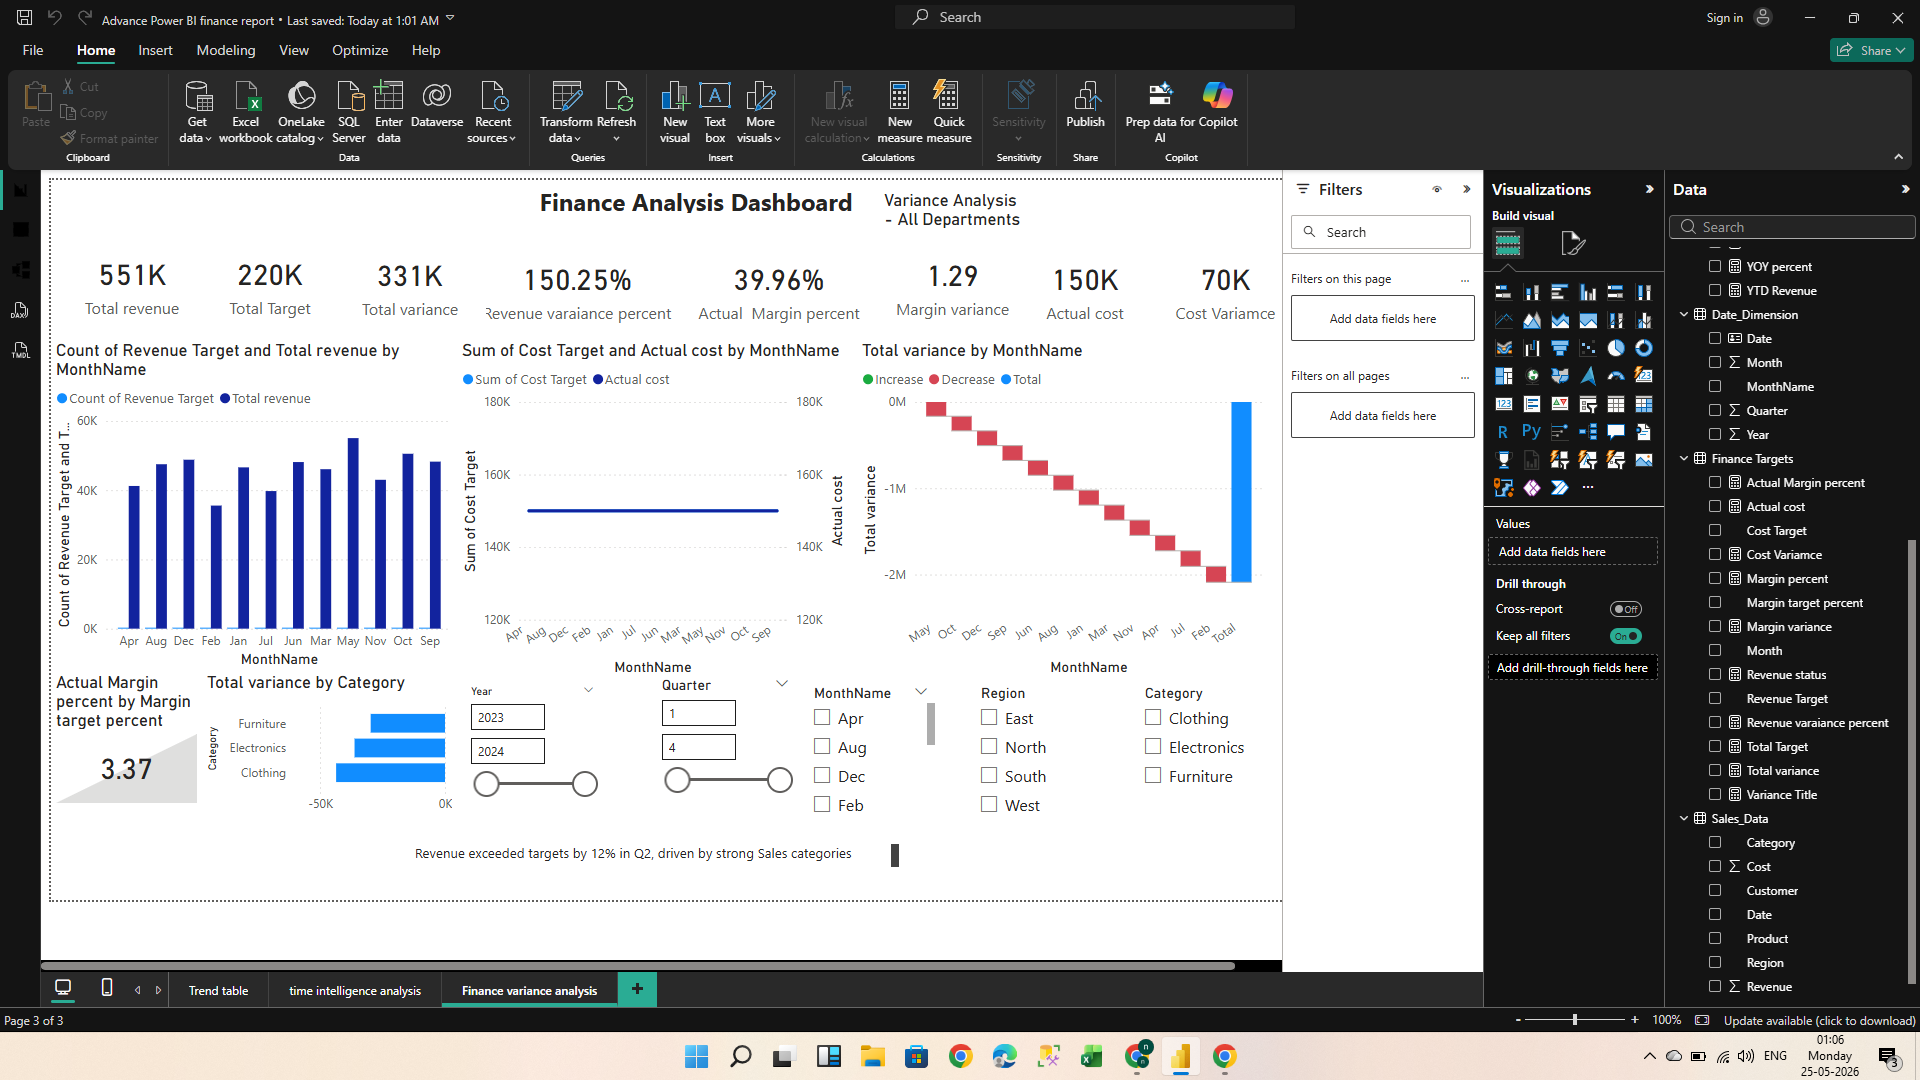

This screenshot's page, from the dashboard's own definition file:
{"tool":"powerbi","page":{"name":"Finance variance analysis","canvas":[1280,720],"ordinal":2},"visuals":[{"type":"textbox","box":[10.3,0,1269.7,45.4],"z":0},{"type":"card","fields":{"Values":["ideas.Total revenue"]},"box":[0,28.9,161.9,149.6],"z":1},{"type":"card","fields":{"Values":["Finance Targets.Margin variance"]},"box":[828.2,10.3,146.5,149.6],"z":2},{"type":"card","fields":{"Values":["Finance Targets.Revenue varaiance percent"]},"box":[415.7,33,220.7,149.6],"z":3},{"type":"card","fields":{"Values":["Finance Targets.Total variance"]},"box":[282.6,33,152.7,142.3],"z":4},{"type":"card","fields":{"Values":["Finance Targets.Total Target"]},"box":[136.1,28.9,166.1,149.6],"z":5},{"type":"card","fields":{"Values":["Finance Targets.Actual  Margin percent"]},"box":[636.4,33,183.6,149.6],"z":6},{"type":"card","fields":{"Values":["Finance Targets.Cost Variamce"]},"box":[1093.3,33,163,149.6],"z":7},{"type":"card","fields":{"Values":["Finance Targets.Actual cost"]},"box":[974.7,33,118.6,149.6],"z":8},{"type":"clusteredColumnChart","fields":{"Category":["Date_Dimension.MonthName"],"Y":["CountNonNull(Finance Targets.Revenue Target)","ideas.Total revenue"]},"box":[0,159.9,406.4,332.1],"z":9},{"type":"lineChart","fields":{"Category":["Date_Dimension.MonthName"],"Y":["Sum(Finance Targets.Cost Target)"],"Y2":["Finance Targets.Actual cost"]},"box":[406.4,159.9,391.9,340.4],"z":10},{"type":"kpi","fields":{"TrendLine":["Finance Targets.Margin target percent"],"Indicator":["Finance Targets.Actual  Margin percent"]},"box":[0,492,150.6,136.1],"z":11},{"type":"waterfallChart","fields":{"Category":["Date_Dimension.MonthName"],"Y":["Finance Targets.Total variance"]},"box":[805.5,159.9,410.5,340.4],"z":12},{"type":"barChart","fields":{"Category":["Sales_Data.Category"],"Y":["Finance Targets.Total variance"]},"box":[150.6,492,255.8,149.6],"z":13},{"type":"slicer","fields":{"Values":["Date_Dimension.Year"]},"box":[407.4,500.2,147.5,149.6],"z":14},{"type":"slicer","fields":{"Values":["Sales_Data.Category"]},"box":[1080.9,500.2,186.7,149.6],"z":15},{"type":"slicer","fields":{"Values":["Sales_Data.Region"]},"box":[916.9,500.2,148.5,149.6],"z":16},{"type":"slicer","fields":{"Values":["Date_Dimension.MonthName"]},"box":[749.8,500.2,139.2,149.6],"z":17},{"type":"slicer","fields":{"Values":["Date_Dimension.Quarter"]},"box":[598.2,492,151.6,149.6],"z":18},{"type":"textbox","box":[358.9,659.1,494.1,38.2],"z":19}]}

Visuals, with their boxes on the page's 1280x720 design canvas (x1, y1, x2, y2). These are canvas units, not pixel positions in the 1920x1080 screenshot, which may show the page scaled, cropped or inside an application window:
textbox: l=10, t=0, r=1280, b=45
card - ideas.Total revenue: l=0, t=29, r=162, b=178
card - Finance Targets.Margin variance: l=828, t=10, r=975, b=160
card - Finance Targets.Revenue varaiance percent: l=416, t=33, r=636, b=183
card - Finance Targets.Total variance: l=283, t=33, r=435, b=175
card - Finance Targets.Total Target: l=136, t=29, r=302, b=178
card - Finance Targets.Actual  Margin percent: l=636, t=33, r=820, b=183
card - Finance Targets.Cost Variamce: l=1093, t=33, r=1256, b=183
card - Finance Targets.Actual cost: l=975, t=33, r=1093, b=183
clusteredColumnChart - Date_Dimension.MonthName x CountNonNull(Finance Targets.Revenue Target): l=0, t=160, r=406, b=492
lineChart - Date_Dimension.MonthName x Sum(Finance Targets.Cost Target): l=406, t=160, r=798, b=500
kpi - Finance Targets.Margin target percent x Finance Targets.Actual  Margin percent: l=0, t=492, r=151, b=628
waterfallChart - Date_Dimension.MonthName x Finance Targets.Total variance: l=806, t=160, r=1216, b=500
barChart - Sales_Data.Category x Finance Targets.Total variance: l=151, t=492, r=406, b=642
slicer - Date_Dimension.Year: l=407, t=500, r=555, b=650
slicer - Sales_Data.Category: l=1081, t=500, r=1268, b=650
slicer - Sales_Data.Region: l=917, t=500, r=1065, b=650
slicer - Date_Dimension.MonthName: l=750, t=500, r=889, b=650
slicer - Date_Dimension.Quarter: l=598, t=492, r=750, b=642
textbox: l=359, t=659, r=853, b=697
